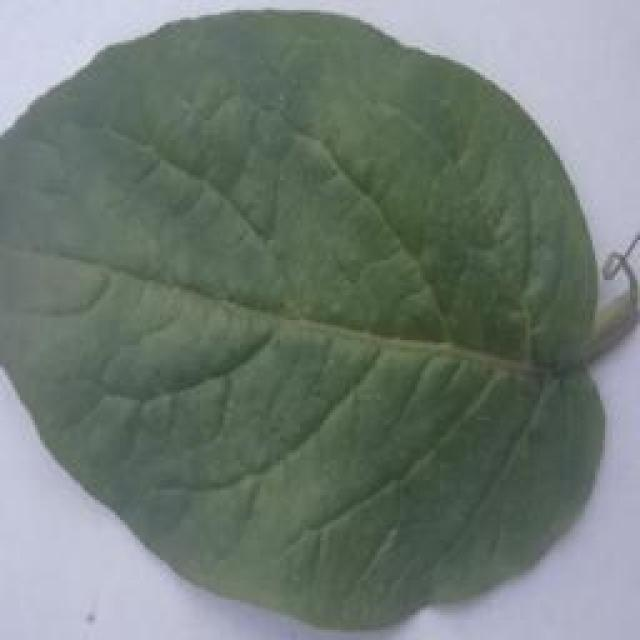Potato_Healthy: (4, 13, 616, 630)
